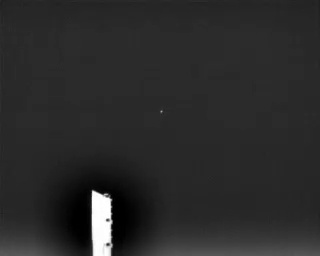BIRD: (158, 107, 165, 116)
